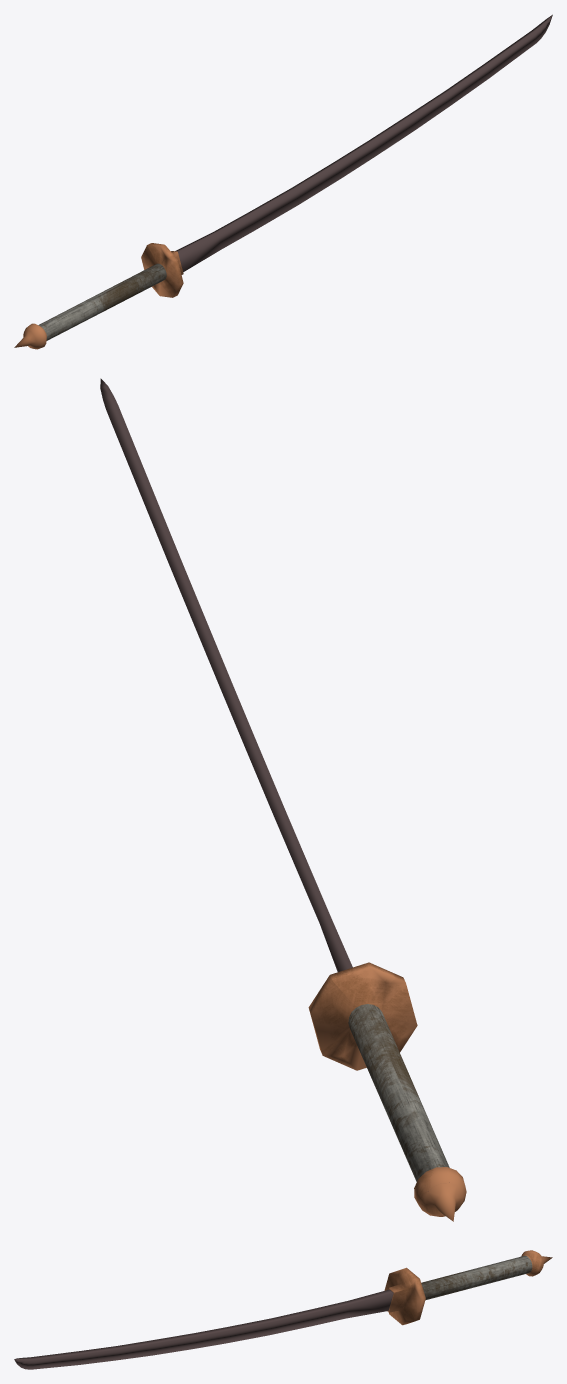
The model's file is Anim_idle_katana_objetos.0036.obj.
The picture shows the model from 3 angles, top to bottom: view 1: azimuth 90°, elevation 25°; view 2: azimuth 150°, elevation 25°; view 3: azimuth 270°, elevation 25°; orthographic projection. The views are drawn at different scales.
Visible parts, largest first — view 1: Katana1; view 2: Katana1; view 3: Katana1.
Boxes of the visible parts, x1,y1,x2,y2 form: Katana1: (14,14,552,349); Katana1: (100,378,466,1221); Katana1: (14,1250,552,1369).
Size of the model in its own units: 3.65 by 0.9751 by 3.82.
